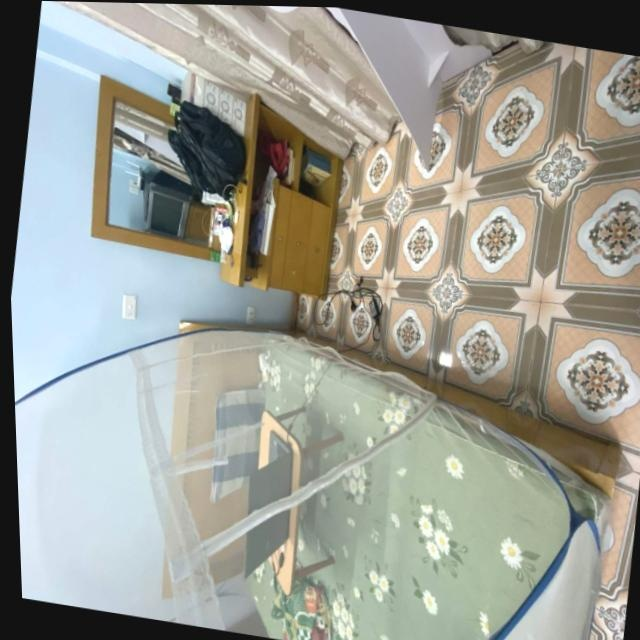outlet: (245, 305, 257, 324)
